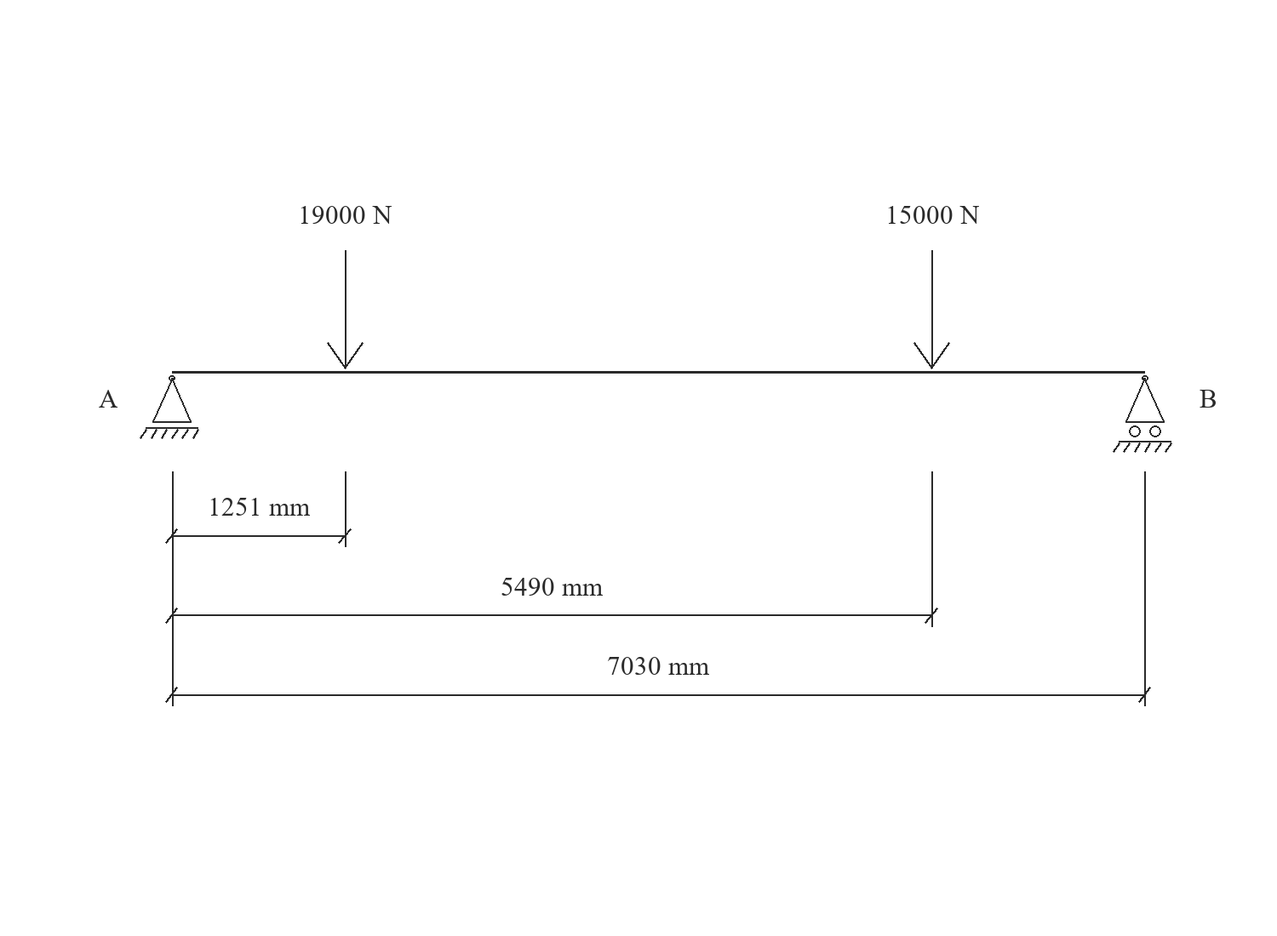pin_support: (140, 375, 199, 439)
point_load: (327, 250, 364, 369), (913, 250, 950, 369)
roller_support: (1113, 375, 1172, 453)
